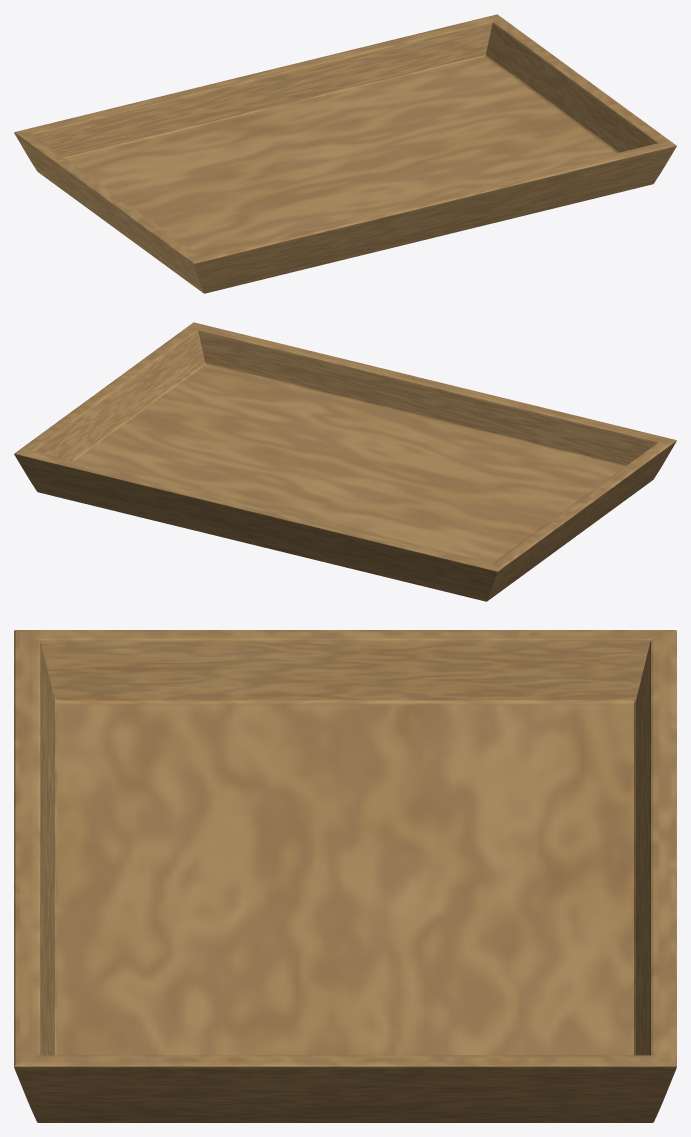
File: serving_tray_model__realistic.glb
The picture shows the model from 3 angles, top to bottom: view 1: azimuth 30°, elevation 25°; view 2: azimuth 150°, elevation 25°; view 3: azimuth 270°, elevation 25°; orthographic projection. The views are drawn at different scales.
Visible parts, largest first — view 1: Cube_Material_0; view 2: Cube_Material_0; view 3: Cube_Material_0.
Part boxes in pixels (<box>): Cube_Material_0: <box>14,14,676,293</box>; Cube_Material_0: <box>14,322,676,601</box>; Cube_Material_0: <box>14,630,676,1122</box>.
Bounding box in the file's own units: 11.04 × 0.875 × 7.1.
Materials: 1 (1 with a texture image).
